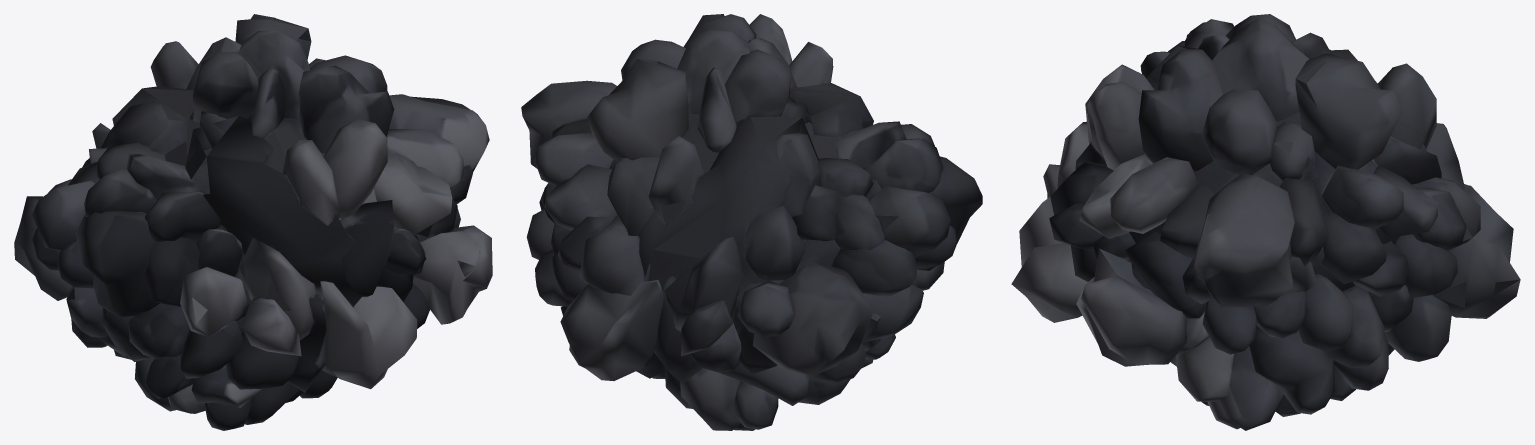
Rendered from Meshy_AI_Obsidian_Cluster_0823190223_texture.fbx.
3 renders of one model, left to right at view 1: azimuth 30°, elevation 25°; view 2: azimuth 150°, elevation 25°; view 3: azimuth 270°, elevation 25°, orthographic. The views are drawn at different scales.
Parts seen in each view (by area): view 1: mesh_node; view 2: mesh_node; view 3: mesh_node.
Boxes of the visible parts, left/top/right/bottom form: mesh_node: left=14, top=14, right=492, bottom=430; mesh_node: left=521, top=14, right=982, bottom=430; mesh_node: left=1011, top=14, right=1520, bottom=430.
Bounding box in the file's own units: 243 × 200 × 242.
1 material, 1 textured.
